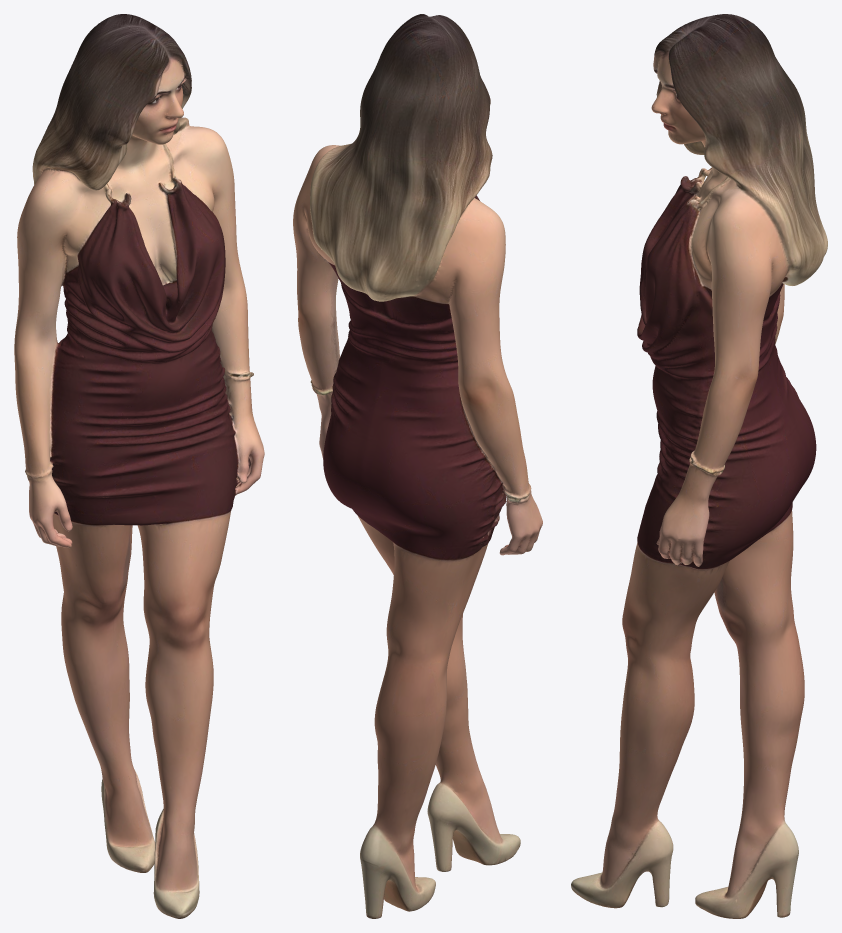
File: brown-halter-dress.glb
The picture shows the model from 3 angles, left to right: view 1: azimuth 30°, elevation 25°; view 2: azimuth 150°, elevation 25°; view 3: azimuth 270°, elevation 25°; orthographic projection. The views are drawn at different scales.
Parts seen in each view (by area): view 1: mesh_0; view 2: mesh_0; view 3: mesh_0.
Boxes of the visible parts, x1=… form: mesh_0: x1=14, y1=14, x2=264, y2=918; mesh_0: x1=293, y1=14, x2=542, y2=918; mesh_0: x1=571, y1=14, x2=827, y2=918.
Size of the model in its own units: 0.515 by 1.9 by 0.499.
Materials: 1 (1 with a texture image).
